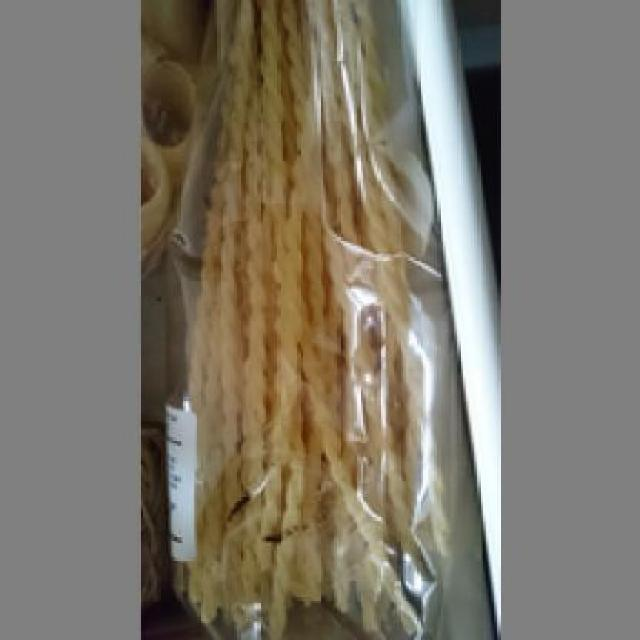Pasta: (180, 0, 441, 632)
